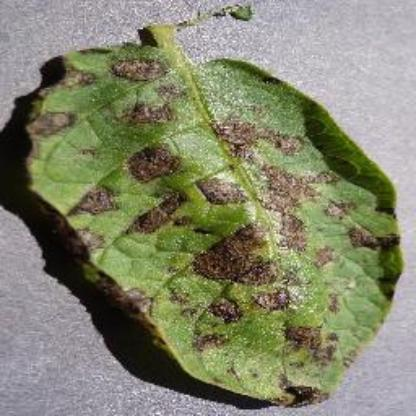Early-Blight: (21, 4, 402, 408)
